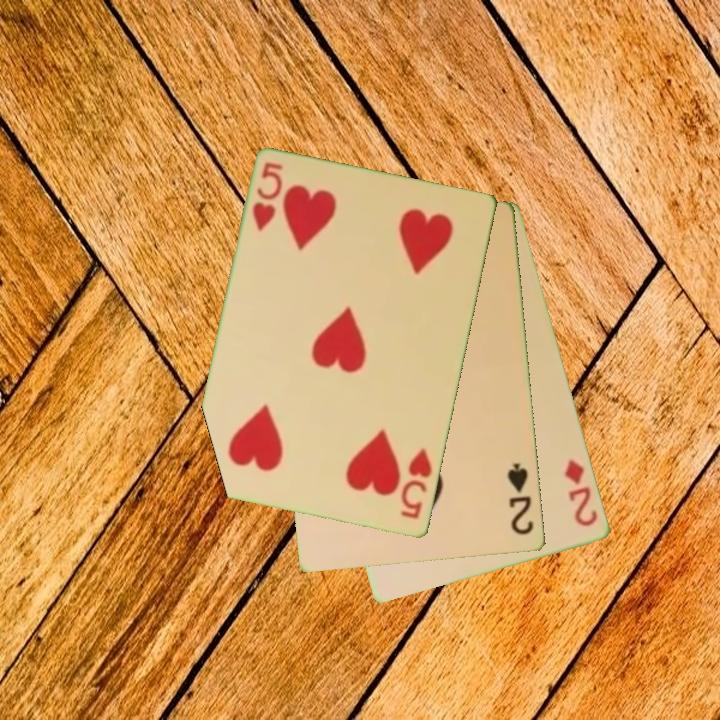2d: (561, 456, 601, 530)
2s: (504, 459, 537, 538)
5h: (397, 445, 436, 523), (249, 159, 286, 235)
